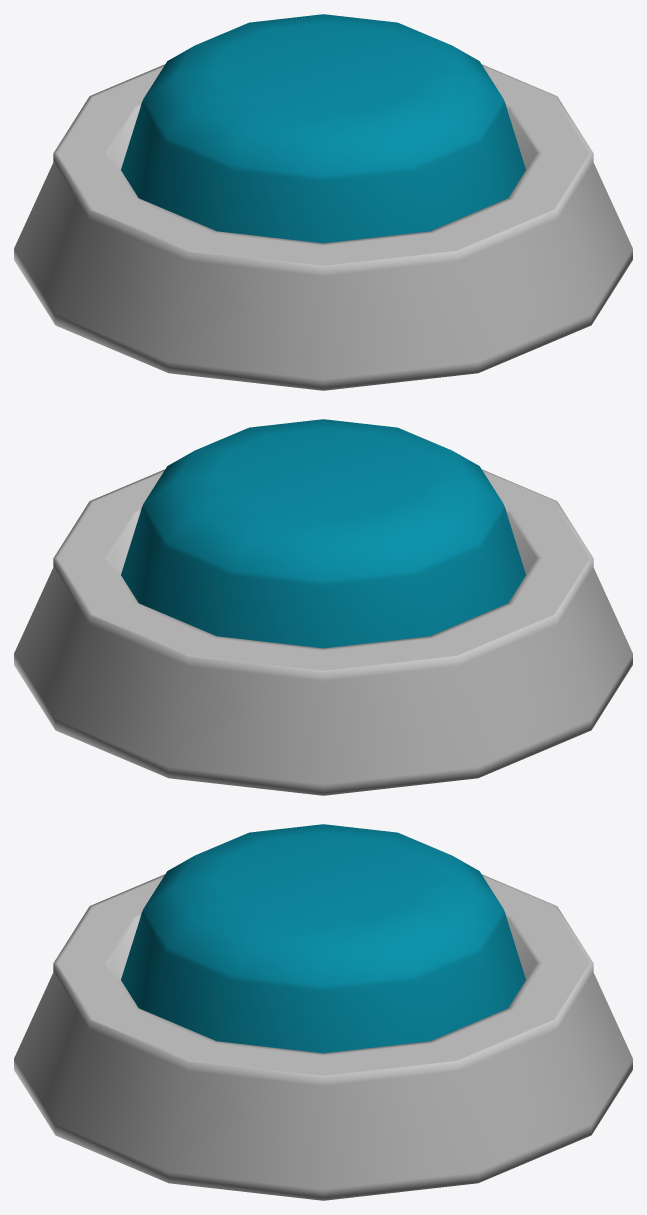
File: boton.fbx
3 views of the same model, one above another, from view 1: azimuth 30°, elevation 25°; view 2: azimuth 150°, elevation 25°; view 3: azimuth 270°, elevation 25° (orthographic).
Visible parts, largest first — view 1: Cylinder, Cylinder.001; view 2: Cylinder, Cylinder.001; view 3: Cylinder, Cylinder.001.
Part boxes in pixels (box(x1,y1,x2,y2)): Cylinder: box(14, 64, 632, 390); Cylinder.001: box(121, 14, 525, 243); Cylinder: box(14, 469, 632, 795); Cylinder.001: box(121, 419, 525, 648); Cylinder: box(14, 874, 632, 1200); Cylinder.001: box(121, 824, 525, 1053).
Bounding box in the file's own units: 229 × 77.63 × 229.
